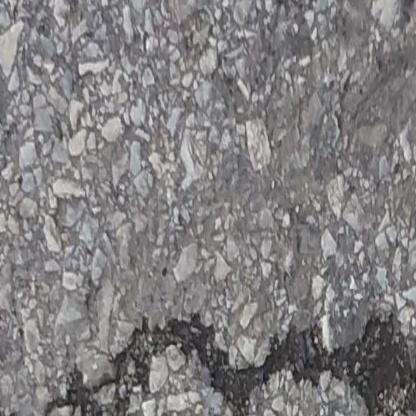Cracks: (0, 310, 416, 416)
